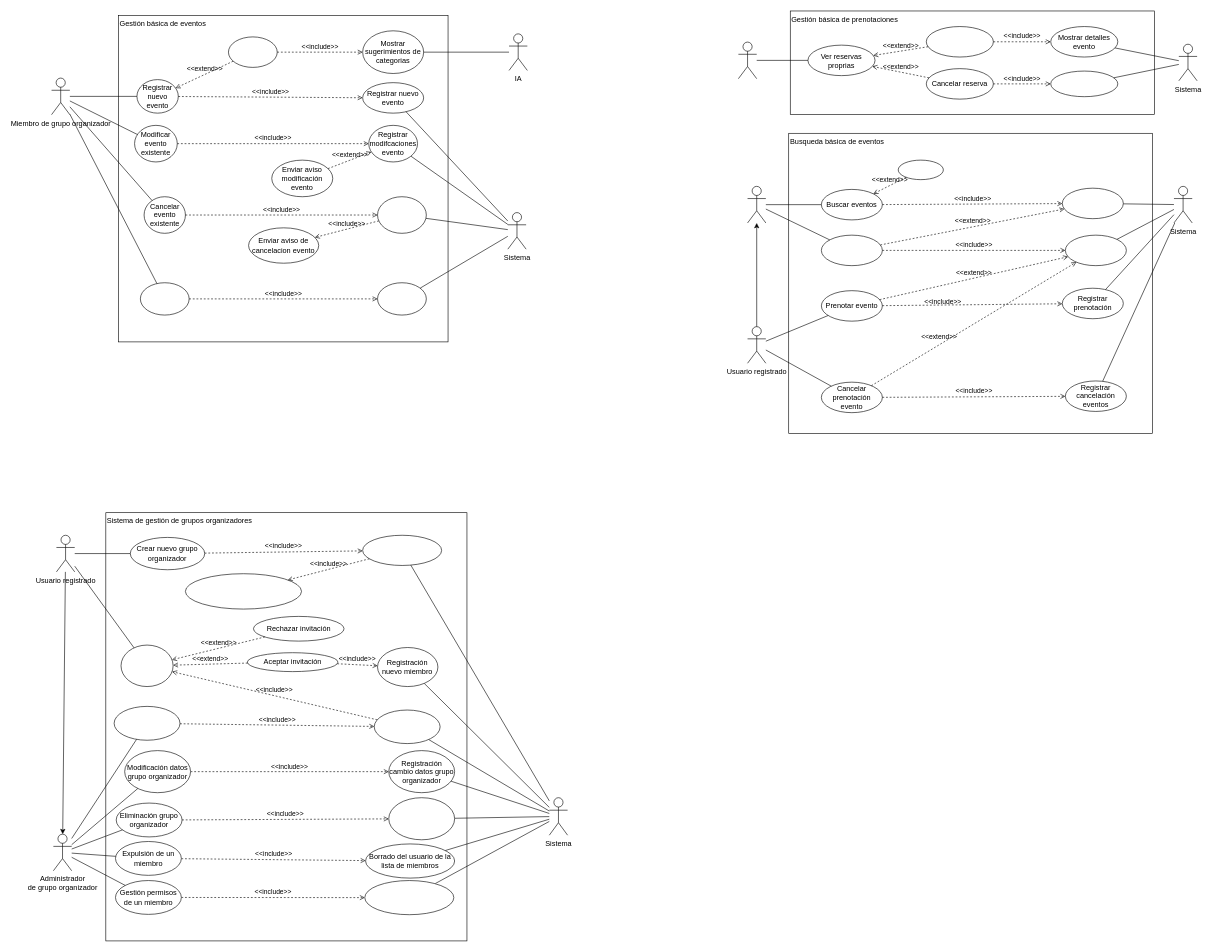
Image size: 1211x952. Some labels were removed from this diagram. The shapes that lost their labels are listed below. From the top down, each one's centre as x and y in pixels, then its label:
pixel 252 51: Habilitar sugerencias IA
pixel 747 60: Usuario
pixel 959 41: Ver detalles evento
pixel 1084 83: Cancelación de la reserva
pixel 920 170: Filtrar
pixel 401 214: Registrar cancelación evento
pixel 756 204: Visitante
pixel 1092 203: Mostrar eventos
pixel 851 250: Seleccionar evento
pixel 1095 250: Mostrar datos evento
pixel 164 298: Ver lista eventos
pixel 401 298: Mostrar lista eventos
pixel 402 550: Registración de nuevo grupo organizador
pixel 243 591: Asignación de permisos de administración al usuario creador
pixel 146 665: Recepción invitación
pixel 147 723: Invitación nuevo miembro
pixel 407 726: Envio invitación
pixel 421 818: Registración borrado grupo organizador
pixel 409 897: Modificación de los permisos del miembro
